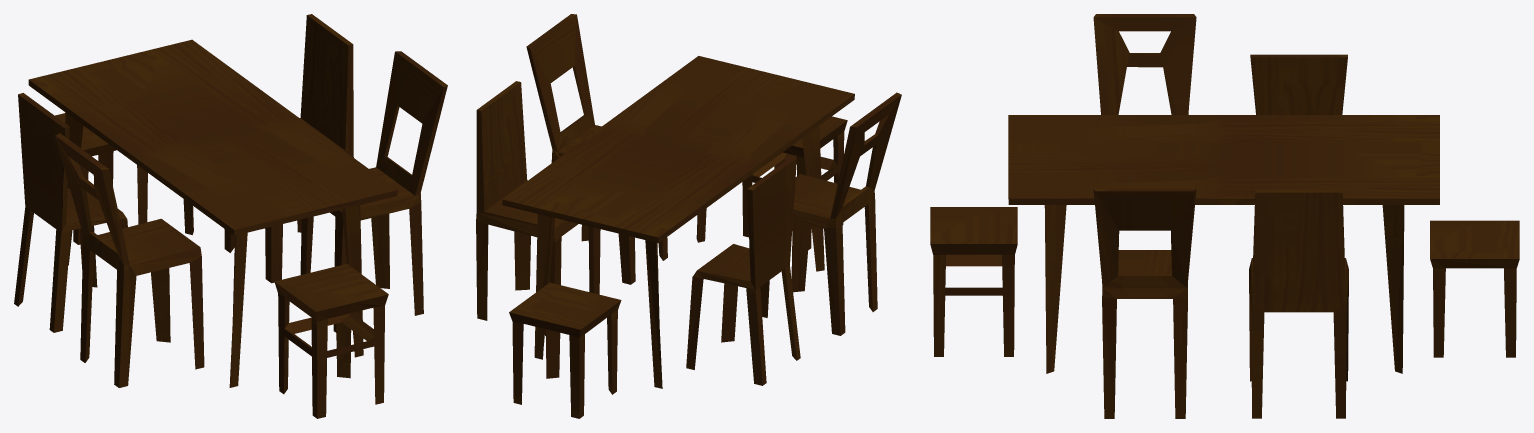
The model's file is masa-set.fbx.
3 renders of one model, left to right at view 1: azimuth 30°, elevation 25°; view 2: azimuth 150°, elevation 25°; view 3: azimuth 270°, elevation 25°, orthographic. The views are drawn at different scales.
Parts seen in each view (by area): view 1: Ultra Low Poly Stool 1; view 2: Ultra Low Poly Stool 1; view 3: Ultra Low Poly Stool 1.
Boxes of the visible parts, bbox=[...] form: Ultra Low Poly Stool 1: bbox=[14, 14, 447, 418]; Ultra Low Poly Stool 1: bbox=[476, 14, 901, 418]; Ultra Low Poly Stool 1: bbox=[930, 14, 1519, 418].
Size of the model in its own units: 207 by 130 by 291.
Materials: 1 (1 with a texture image).
